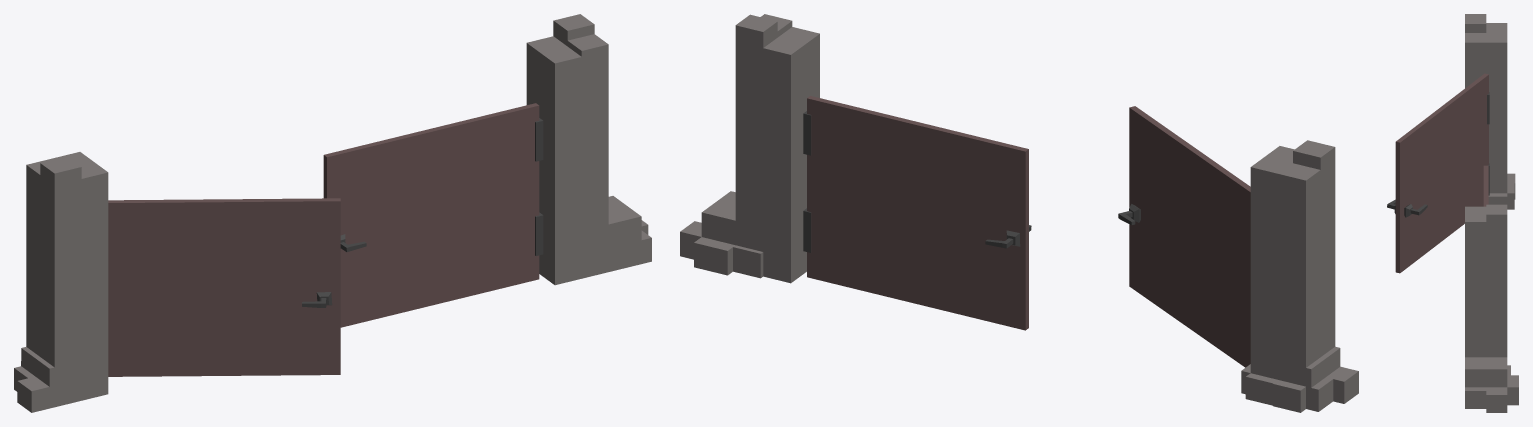
The model's file is Gate.fbx.
3 renders of one model, left to right at view 1: azimuth 30°, elevation 25°; view 2: azimuth 150°, elevation 25°; view 3: azimuth 270°, elevation 25°, orthographic. The views are drawn at different scales.
Visible parts, largest first — view 1: Cube.001, Cube.002, Cube.006; view 2: Cube.001, Cube.002, Cube.006; view 3: Cube.002, Cube.001, Cube.006.
Part boxes in pixels (x1,y1,x2,y2): Cube.001: [108, 103, 539, 376]; Cube.002: [14, 14, 651, 412]; Cube.006: [302, 118, 543, 307]; Cube.001: [807, 96, 1250, 367]; Cube.002: [680, 14, 1358, 412]; Cube.006: [803, 111, 1140, 252]; Cube.002: [1465, 14, 1518, 412]; Cube.001: [1395, 73, 1488, 273]; Cube.006: [1387, 92, 1489, 217].
Size of the model in its own units: 92.16 by 33.49 by 22.17.
